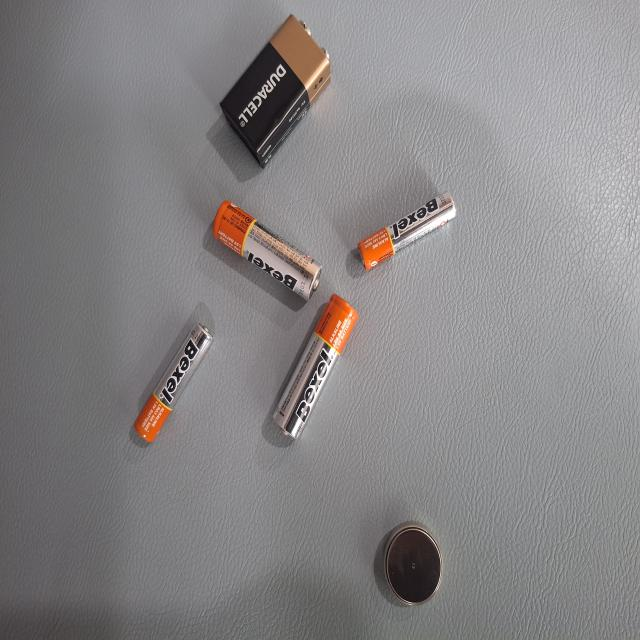9V: (9, 413, 127, 560)
AA: (220, 378, 329, 486), (151, 423, 226, 569)
AAA: (144, 244, 200, 374), (240, 567, 330, 640)
